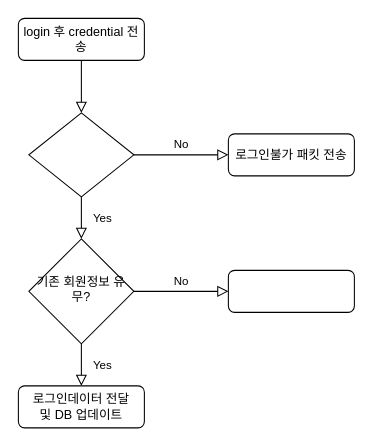
This 373x446 diagram has some shape labels left out. Each missing label, with the centre of its shape:
"auth verify" belongs at (x=81, y=154).
"DB에 노드 추가 및 업데이트" belongs at (x=290, y=290).
